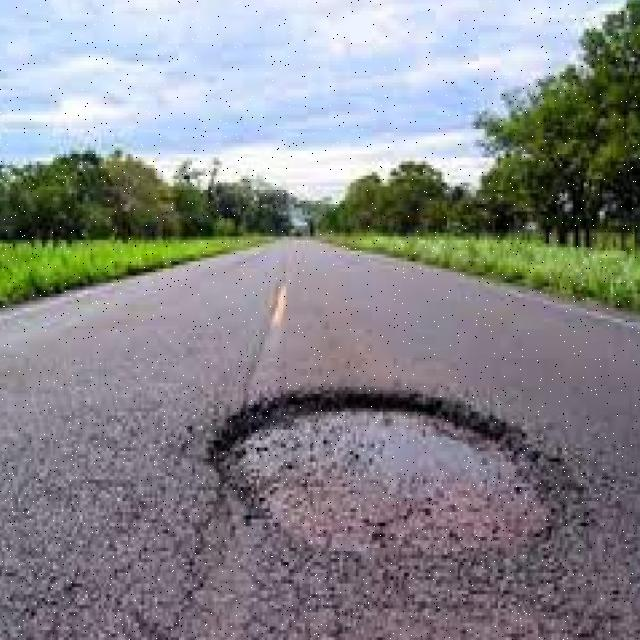pothole: (211, 394, 549, 566)
